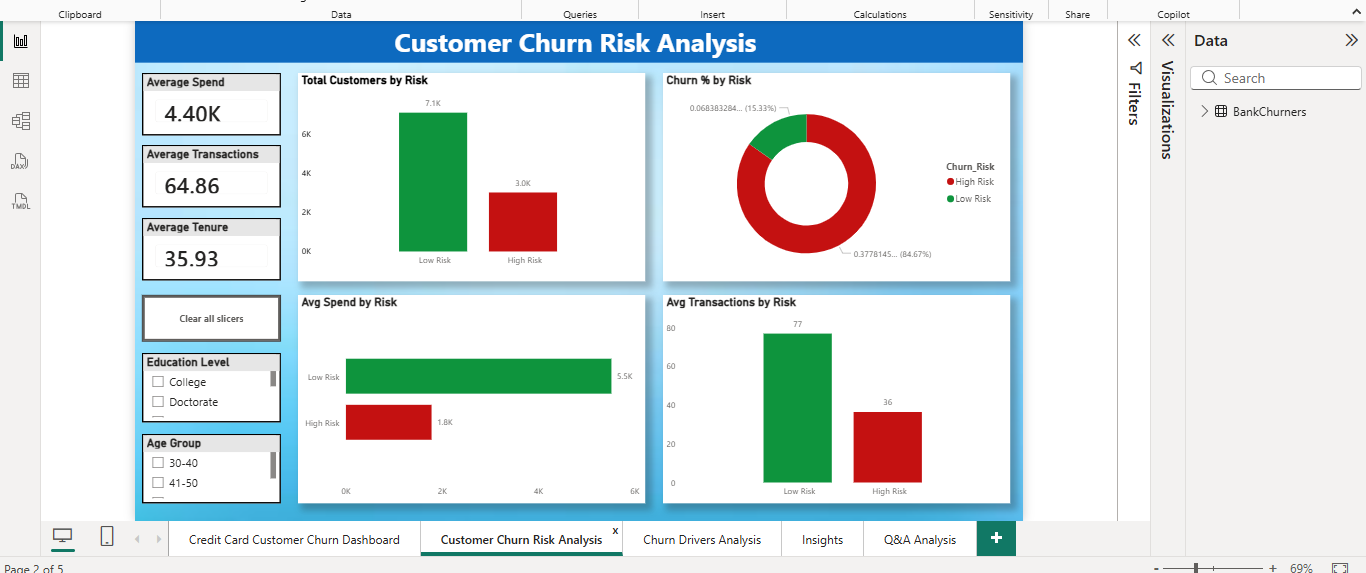

This screenshot's page, from the dashboard's own definition file:
{"tool":"powerbi","page":{"name":"Customer Churn Risk Analysis","canvas":[1280,720],"ordinal":1},"visuals":[{"type":"cardVisual","title":"Average Transactions","fields":{"Data":["BankChurners.Avg_Transactions"]},"box":[10,178.6,200,90],"z":0},{"type":"cardVisual","title":"Average Spend","fields":{"Data":["BankChurners.Avg_Spend"]},"box":[10,74.3,200,90],"z":1000},{"type":"cardVisual","title":"Average Tenure","fields":{"Data":["BankChurners.Avg_Tenure"]},"box":[10,284.3,200,90],"z":2000},{"type":"clusteredColumnChart","title":"Total Customers by Risk","fields":{"Category":["BankChurners.Churn_Risk"],"Y":["BankChurners.Total Customers"]},"box":[234.3,74.3,500,300],"z":3000},{"type":"donutChart","title":"Churn % by Risk","fields":{"Category":["BankChurners.Churn_Risk"],"Y":["BankChurners.Churn_Percentage"]},"box":[760,74.3,500,300],"z":4000},{"type":"clusteredBarChart","title":"Avg Spend by Risk","fields":{"Category":["BankChurners.Churn_Risk"],"Y":["BankChurners.Avg_Spend"]},"box":[234.3,394.3,500,300],"z":5000},{"type":"clusteredColumnChart","title":"Avg Transactions by Risk","fields":{"Category":["BankChurners.Churn_Risk"],"Y":["BankChurners.Avg_Transactions"]},"box":[760,394.3,500,300],"z":6000},{"type":"shape","box":[0,0,1280.2,60.5],"z":7000},{"type":"textbox","box":[368.6,0,542.9,80],"z":8000},{"type":"slicer","title":"Education Level ","fields":{"Values":["BankChurners.Education_Level"]},"box":[10,478.6,200,100],"z":9000},{"type":"slicer","title":"Age Group","fields":{"Values":["BankChurners.Age Group"]},"box":[10,594.3,200,100],"z":10000},{"type":"actionButton","box":[10,394.3,200,67.1],"z":11000}]}

Visuals, with their boxes on the page's 1280x720 design canvas (x1, y1, x2, y2). These are canvas units, not pixel positions in the 1366x573 screenshot, which may show the page scaled, cropped or inside an application window:
"Average Transactions" cardVisual: bbox(10, 179, 210, 269)
"Average Spend" cardVisual: bbox(10, 74, 210, 164)
"Average Tenure" cardVisual: bbox(10, 284, 210, 374)
"Total Customers by Risk" clusteredColumnChart: bbox(234, 74, 734, 374)
"Churn % by Risk" donutChart: bbox(760, 74, 1260, 374)
"Avg Spend by Risk" clusteredBarChart: bbox(234, 394, 734, 694)
"Avg Transactions by Risk" clusteredColumnChart: bbox(760, 394, 1260, 694)
shape: bbox(0, 0, 1280, 60)
textbox: bbox(369, 0, 912, 80)
"Education Level " slicer: bbox(10, 479, 210, 579)
"Age Group" slicer: bbox(10, 594, 210, 694)
actionButton: bbox(10, 394, 210, 461)
